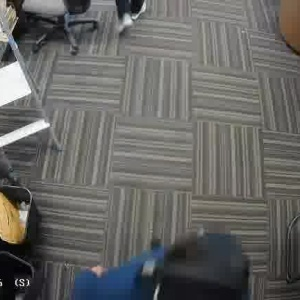person: (77, 238, 257, 295)
